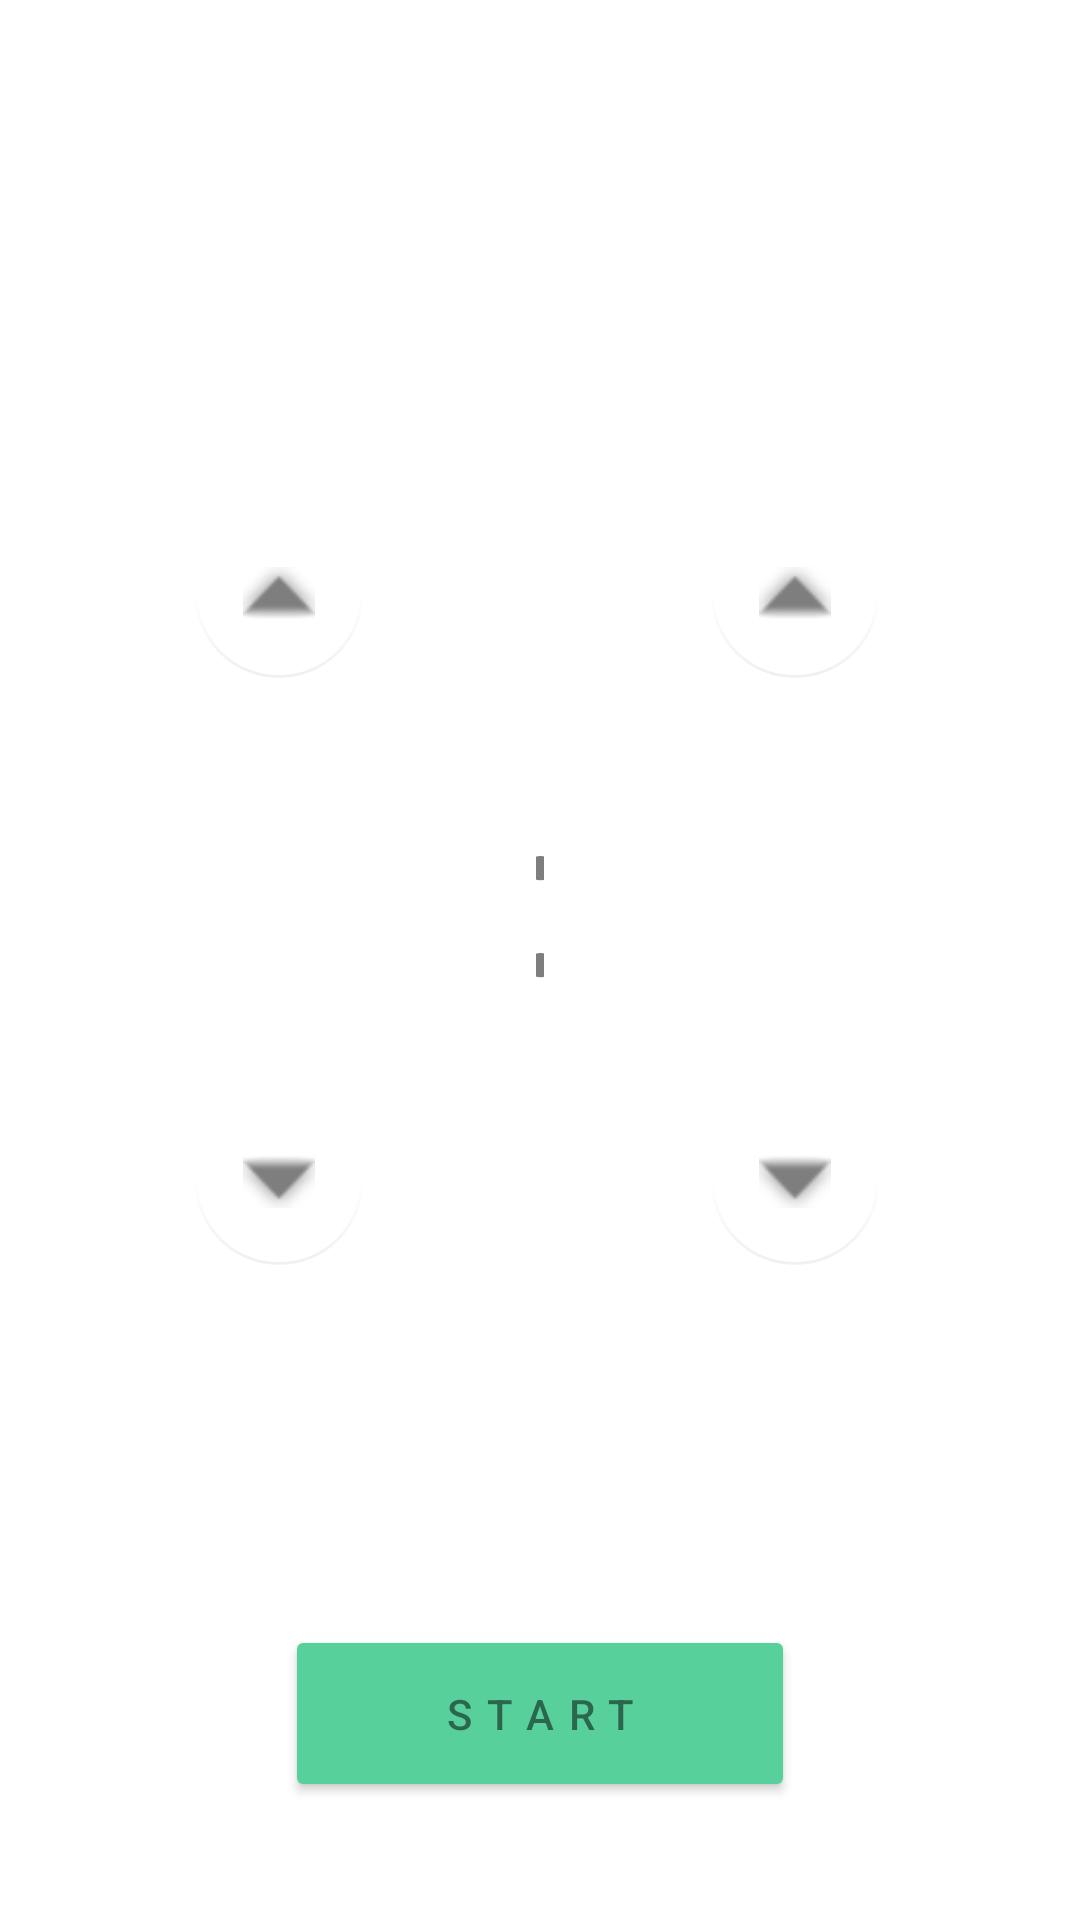

Icon bounding boxes for this 1080×1920 phone screenshot, format bbox(x1, y1, x2, y2):
arrow down float: bbox(243, 1159, 315, 1202), bbox(759, 1159, 831, 1202)
arrow up float: bbox(243, 573, 315, 616), bbox(759, 573, 831, 616)
